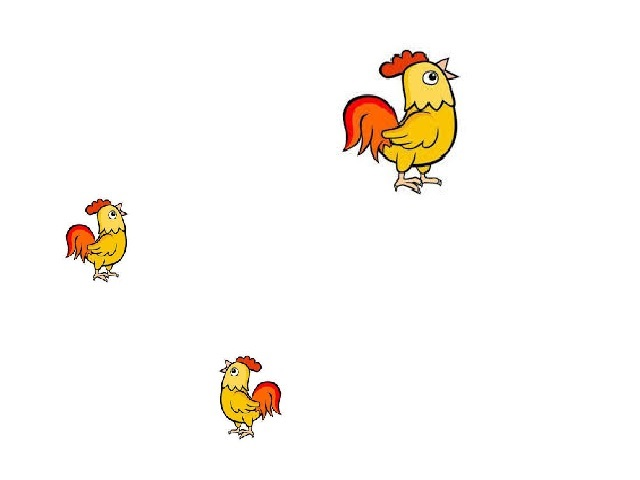crown: (380, 49, 428, 74), (83, 196, 107, 212), (239, 355, 263, 371)
eyes: (421, 69, 439, 87), (107, 211, 119, 219), (231, 368, 240, 378)
feet: (395, 171, 455, 195), (227, 426, 263, 447), (93, 266, 125, 287)
tail: (341, 93, 398, 161), (65, 224, 95, 264), (252, 380, 280, 416)
